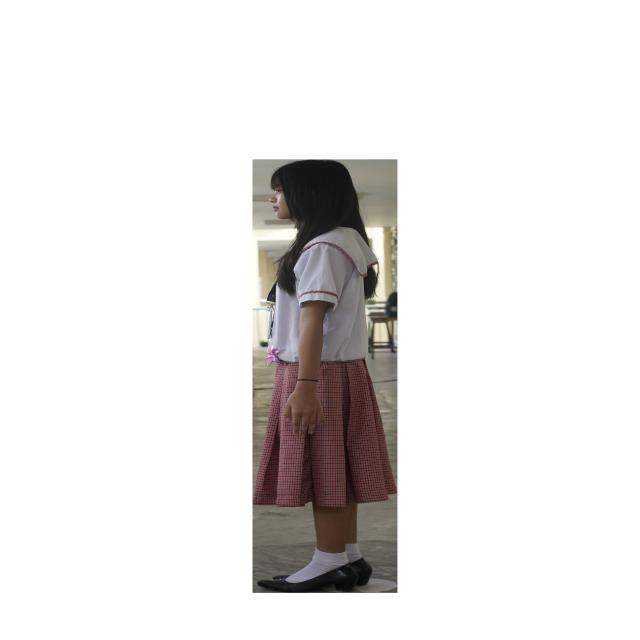shoes: (257, 563, 358, 593)
skirt: (253, 359, 397, 507)
